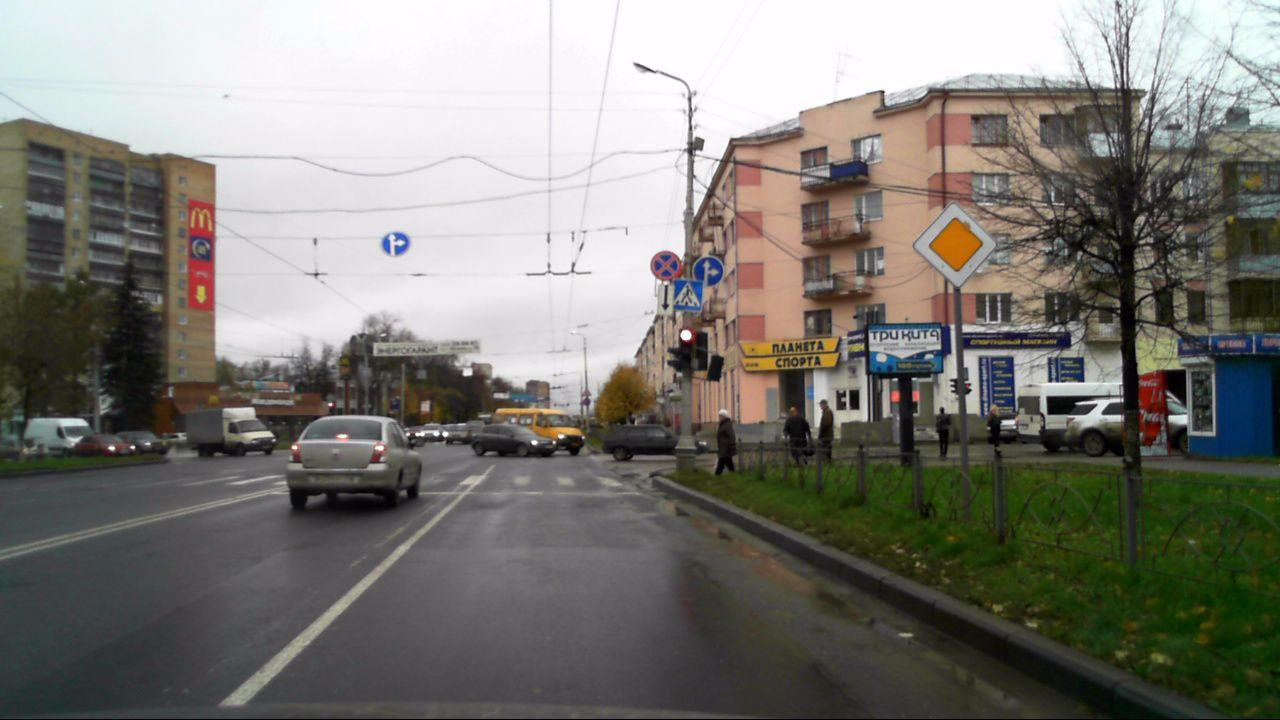2_1: (911, 200, 996, 290)
3_27: (649, 247, 681, 281)
4_1_4: (694, 256, 728, 285), (381, 231, 409, 256)
5_19_1: (674, 277, 703, 311)
8_2_3: (656, 283, 674, 316)
